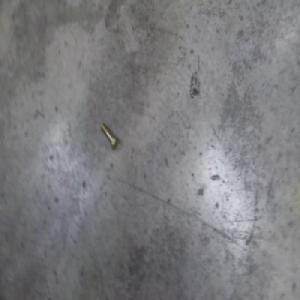Bolt: (99, 121, 119, 150)
